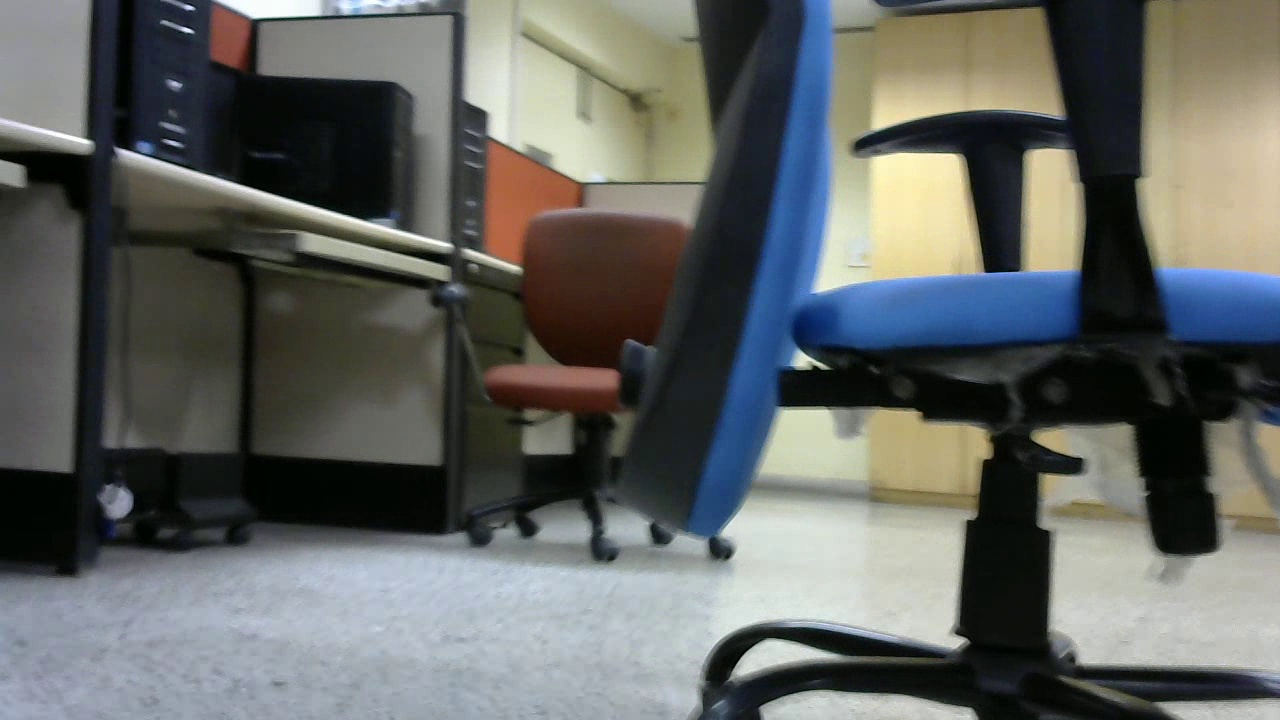chair: (667, 1, 1276, 717), (442, 207, 752, 573)
